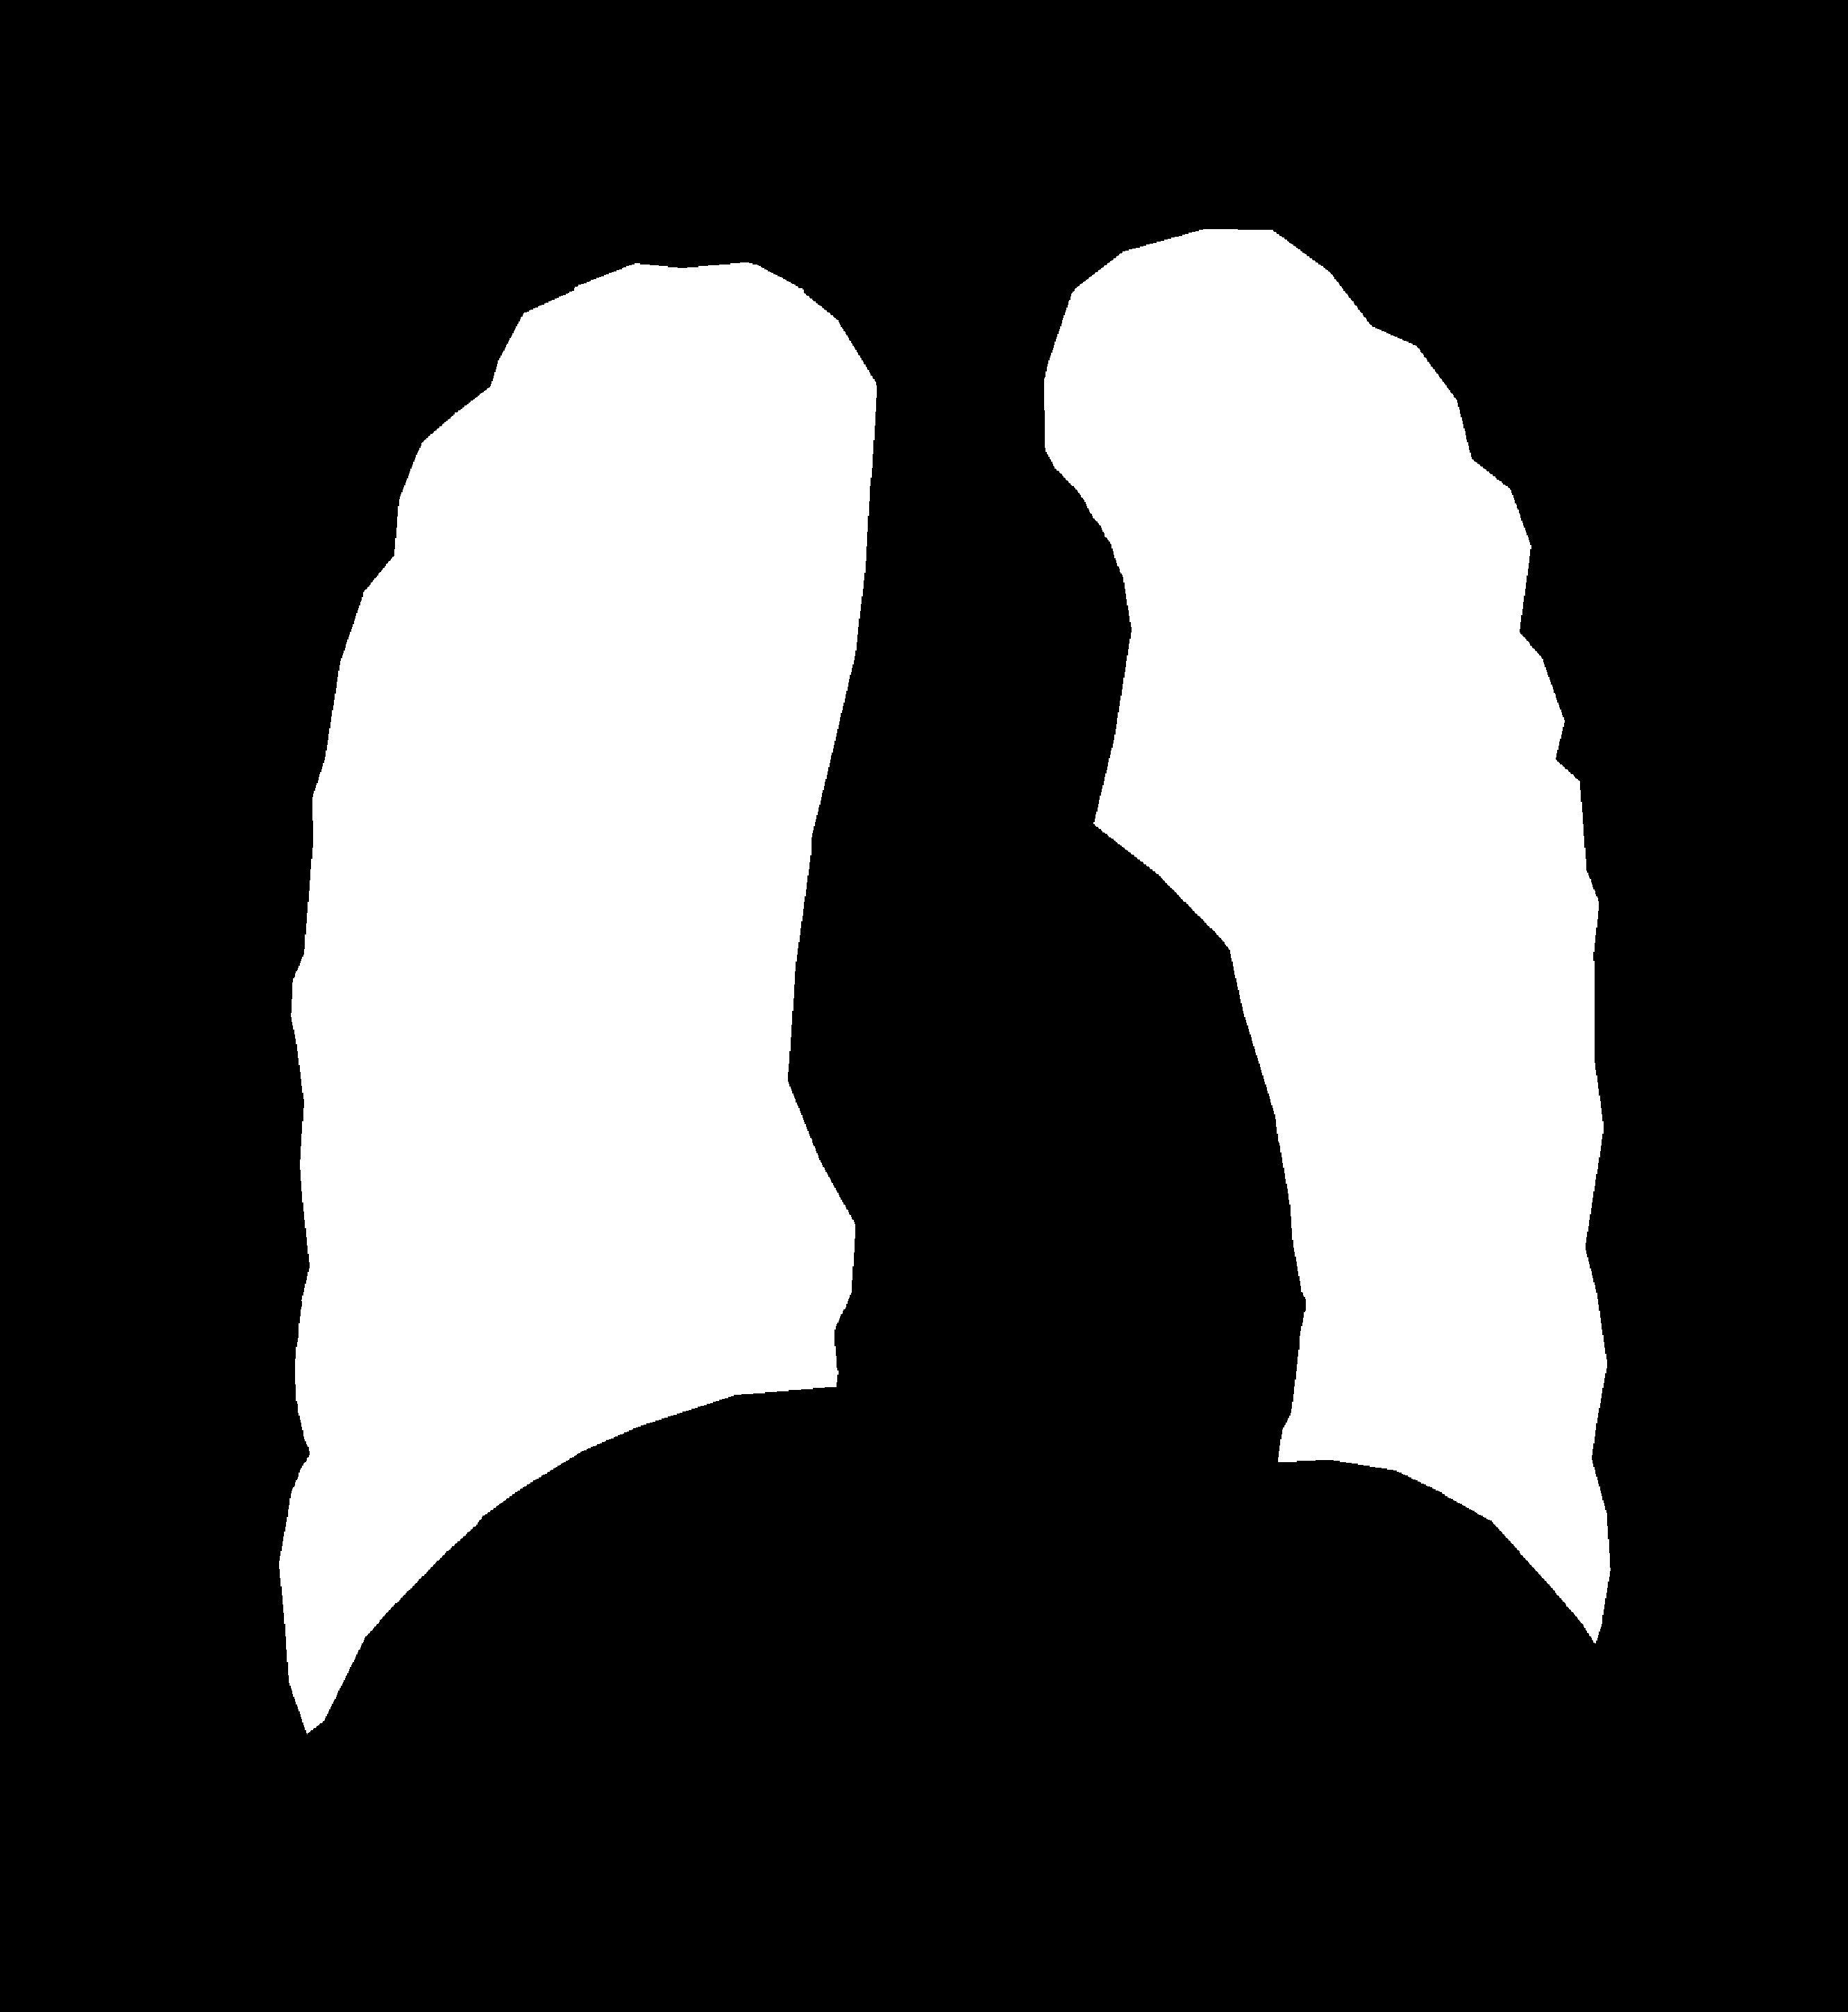heart: (734, 832, 1300, 1544)
left_lung: (279, 263, 876, 1733)
right_lung: (1044, 230, 1610, 1642)
